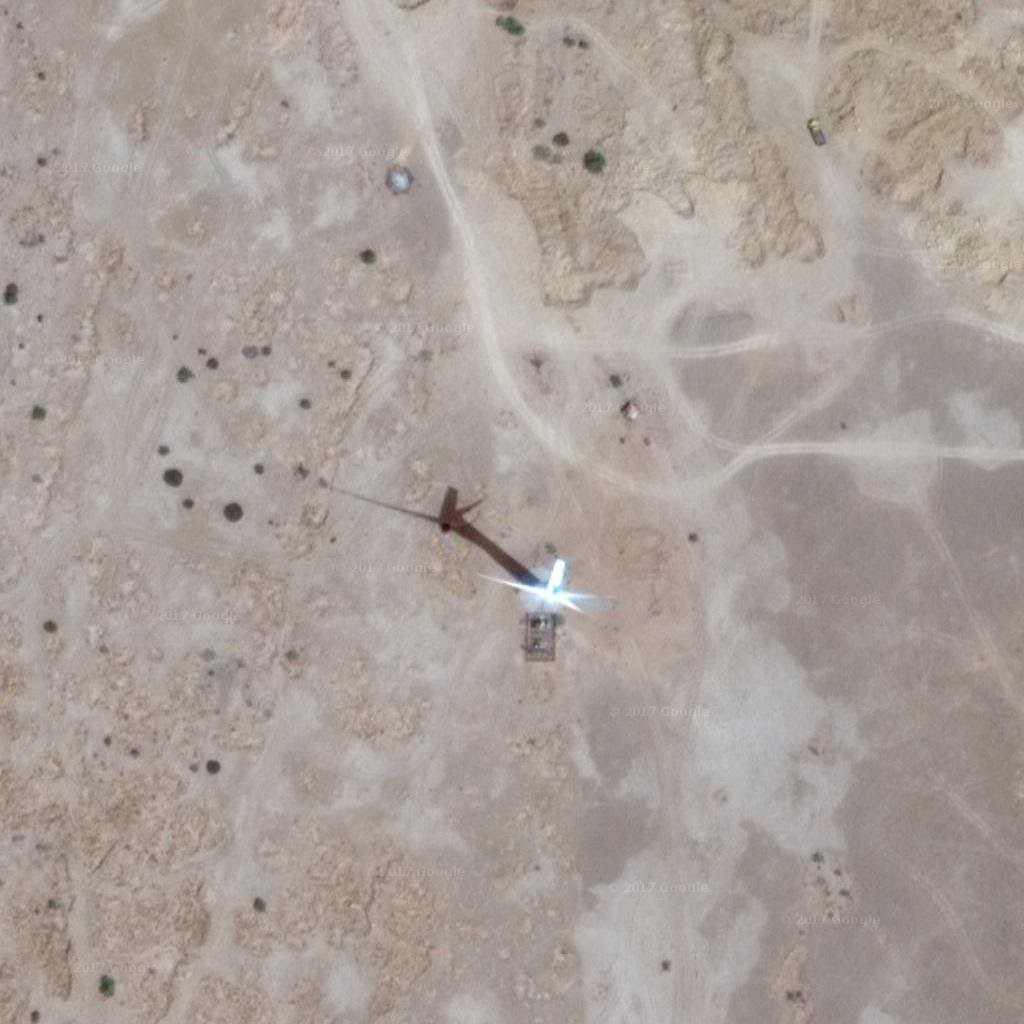Windmill: (311, 466, 560, 594)
